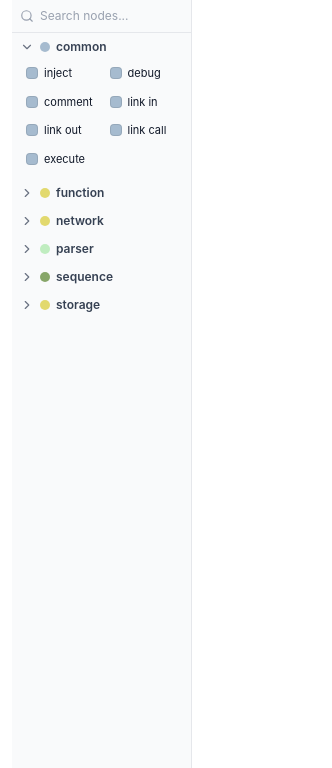
Test: Palette › search › shows no matching nodes message when search has no results
In the field with test id "palette-search": (136, 16) x1=40 y1=8 x2=232 y2=24, type "zzznonexistent"
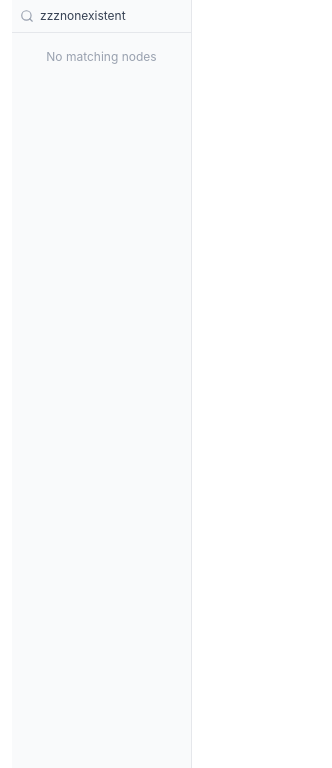
Now the text "No matching nodes" is shown, box x1=46 y1=49 x2=157 y2=64
